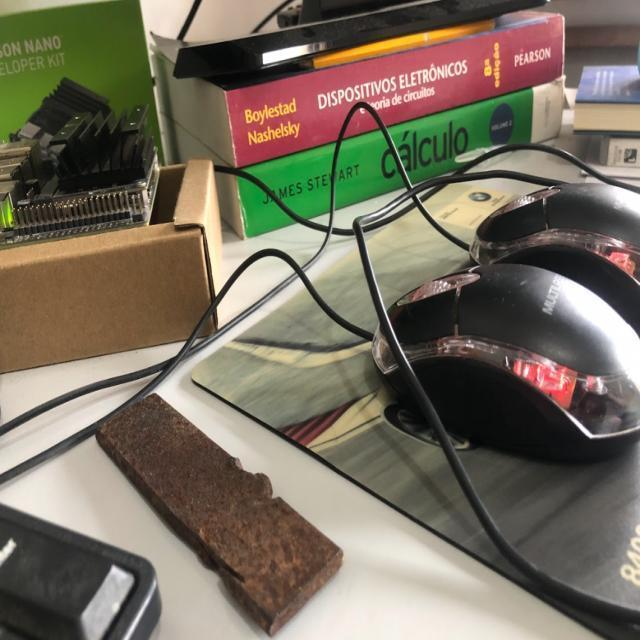Corrosion: (94, 391, 343, 636)
